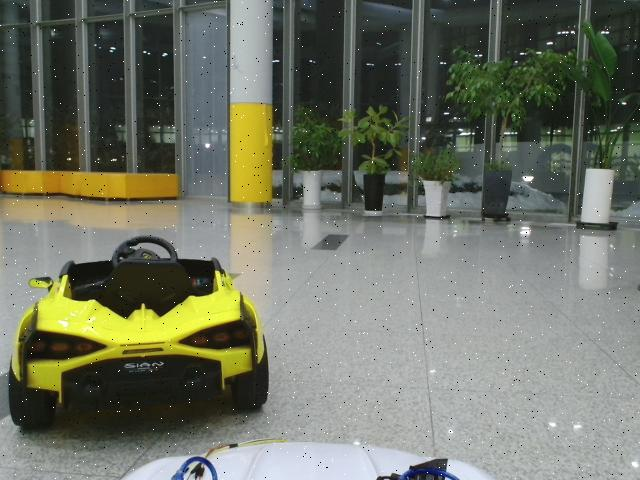car: (9, 236, 269, 432)
